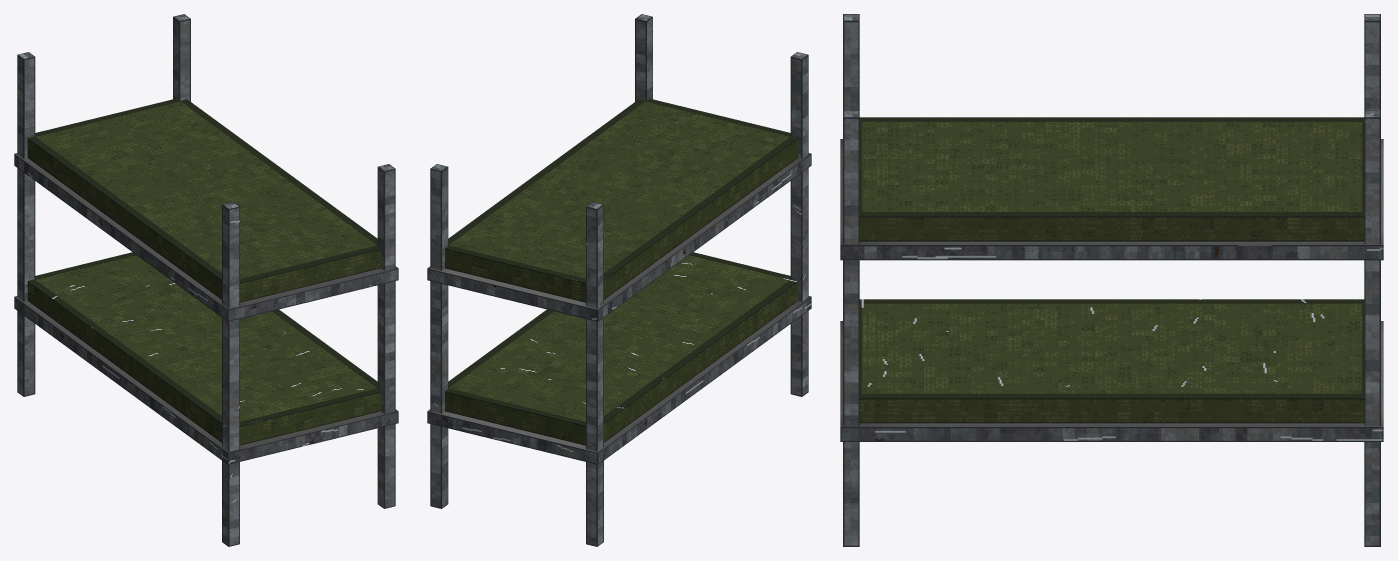
File: SM_Bunk_Steel_01.fbx
3 views of the same model, side by side, from view 1: azimuth 30°, elevation 25°; view 2: azimuth 150°, elevation 25°; view 3: azimuth 270°, elevation 25° (orthographic). The views are drawn at different scales.
Visible parts, largest first — view 1: SM_Bunk_Steel_01; view 2: SM_Bunk_Steel_01; view 3: SM_Bunk_Steel_01.
Boxes of the visible parts, left/top/right/bottom form: SM_Bunk_Steel_01: left=14, top=14, right=398, bottom=546; SM_Bunk_Steel_01: left=427, top=14, right=811, bottom=546; SM_Bunk_Steel_01: left=840, top=14, right=1383, bottom=546.
Bounding box in the file's own units: 0.9 × 1.7 × 1.95.
Materials: 1 (1 with a texture image).
